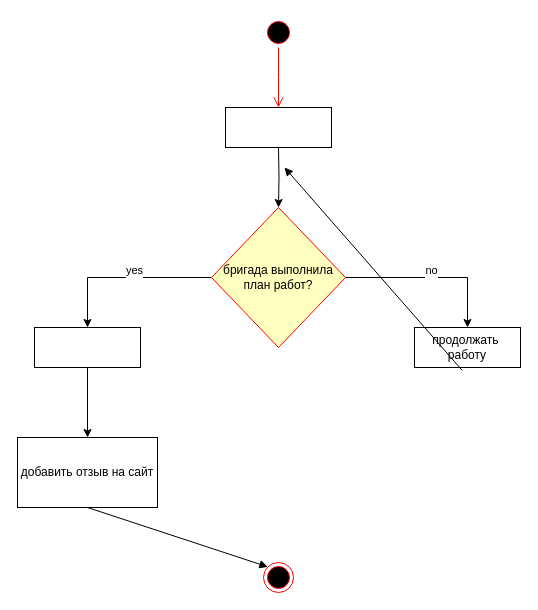
The diagram is 538 pixels wide and 610 high, and some of its shapes have lost their labels. Here are the shapes that lost their labels. From the top down, the centre of each, then its label:
the point at 278,127: отпрака заявки
the point at 87,347: диспетчер оставляет план
